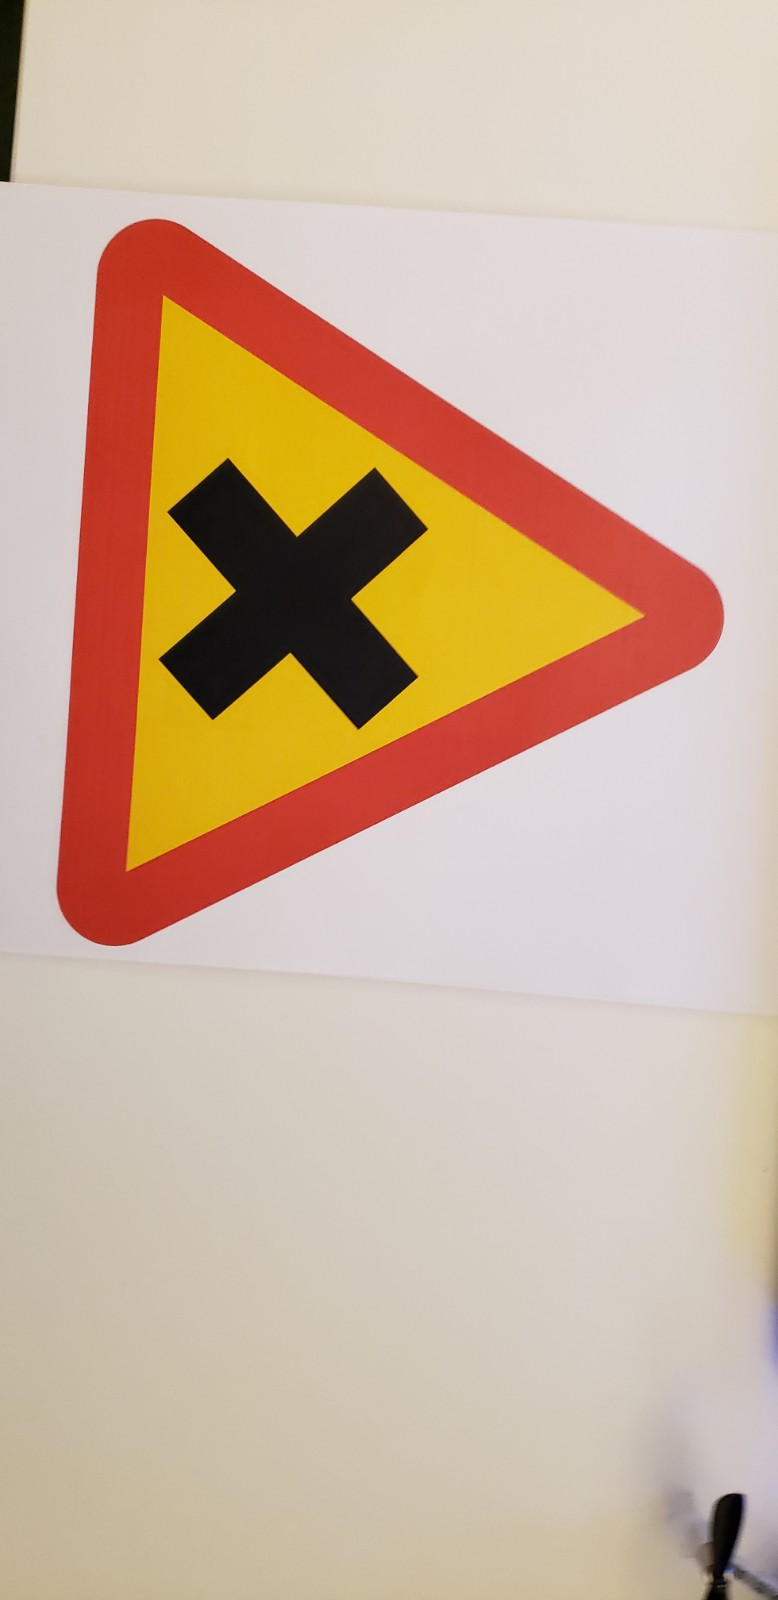junction: (1, 116, 719, 991)
